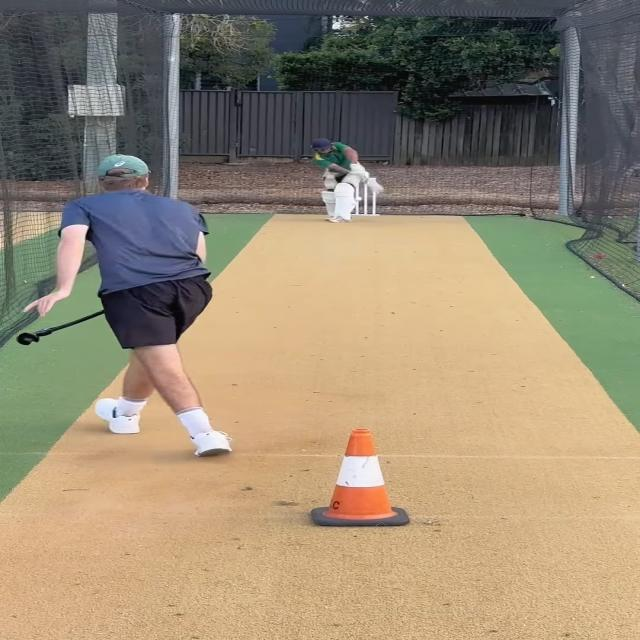Cricket ball: (354, 195, 365, 202)
